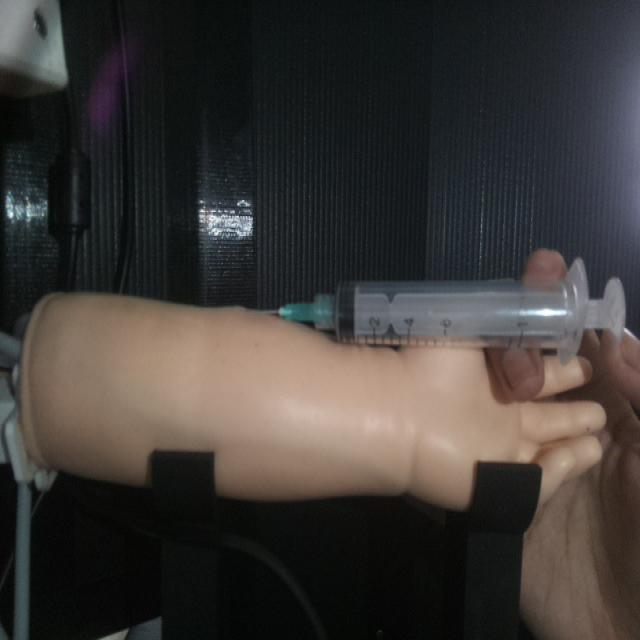Outside: (250, 255, 629, 369)
